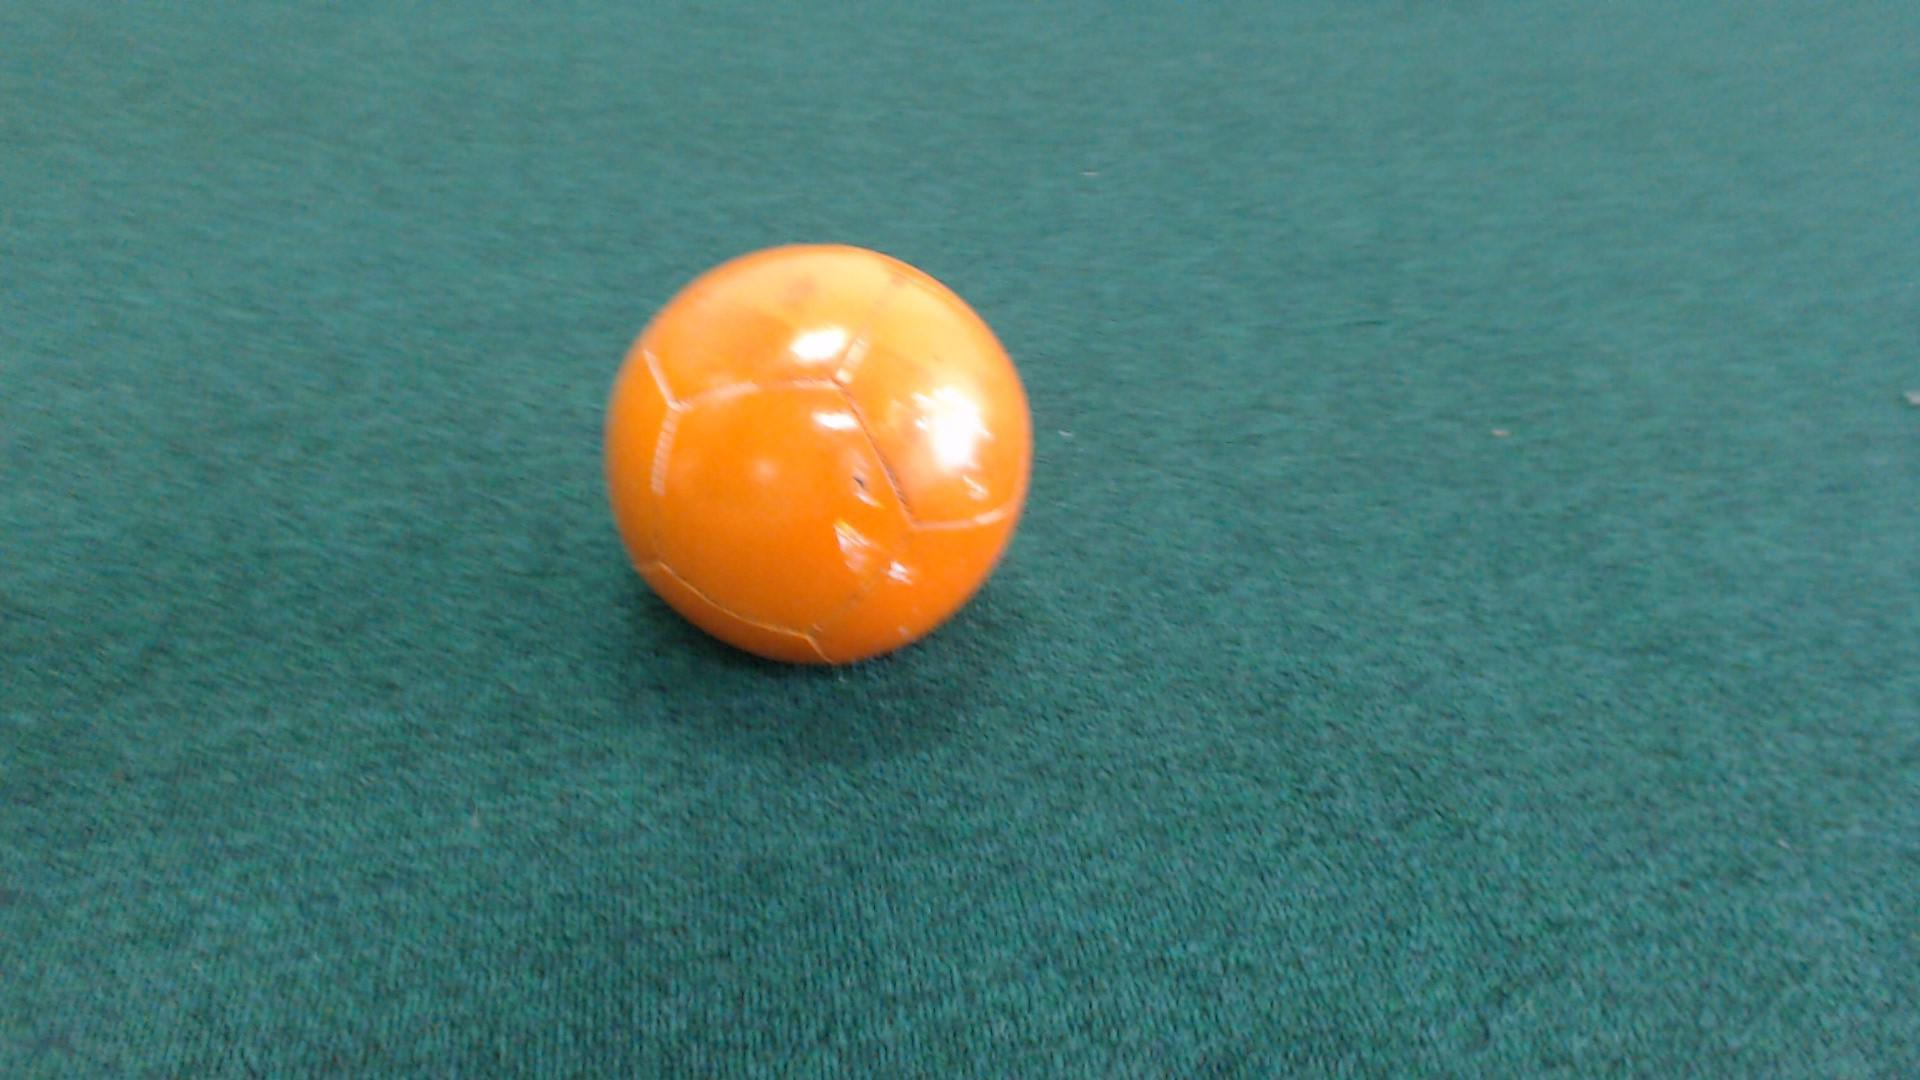bola: (596, 243, 1050, 675)
